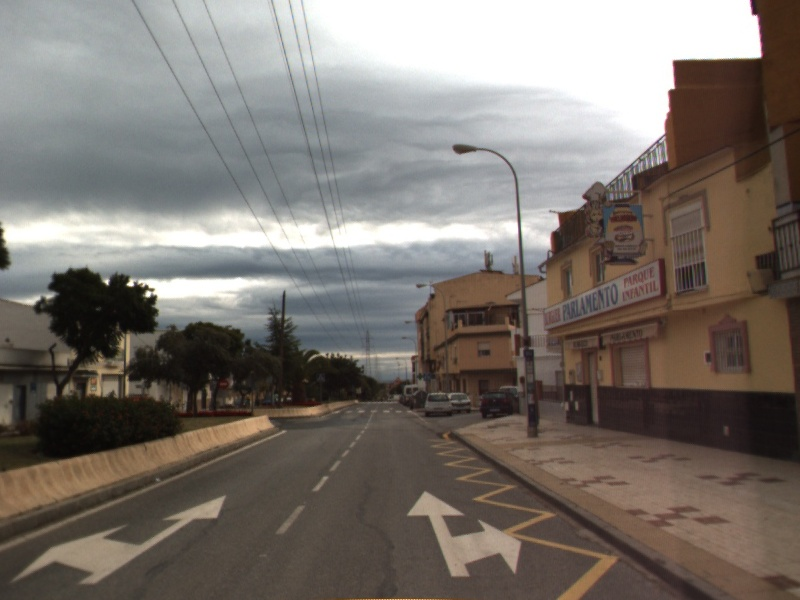STRAIGHT_LEFT: (7, 492, 229, 587)
STRAIGHT_RIGHT: (404, 488, 523, 579)
